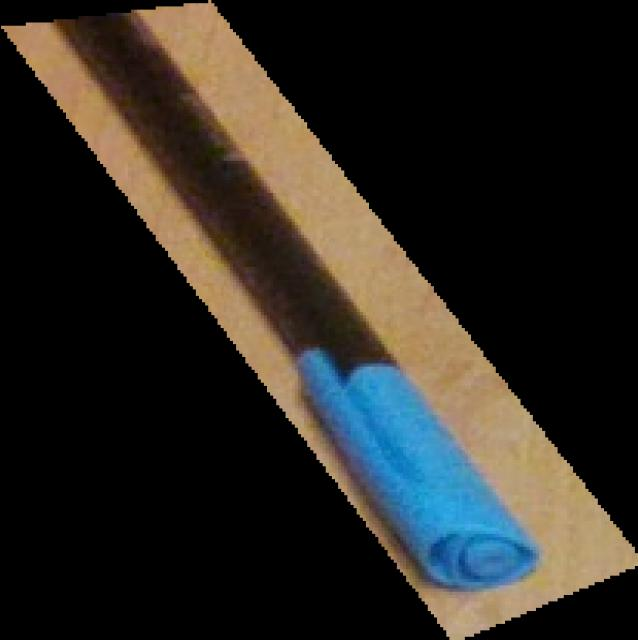blue: (1, 0, 638, 640)
